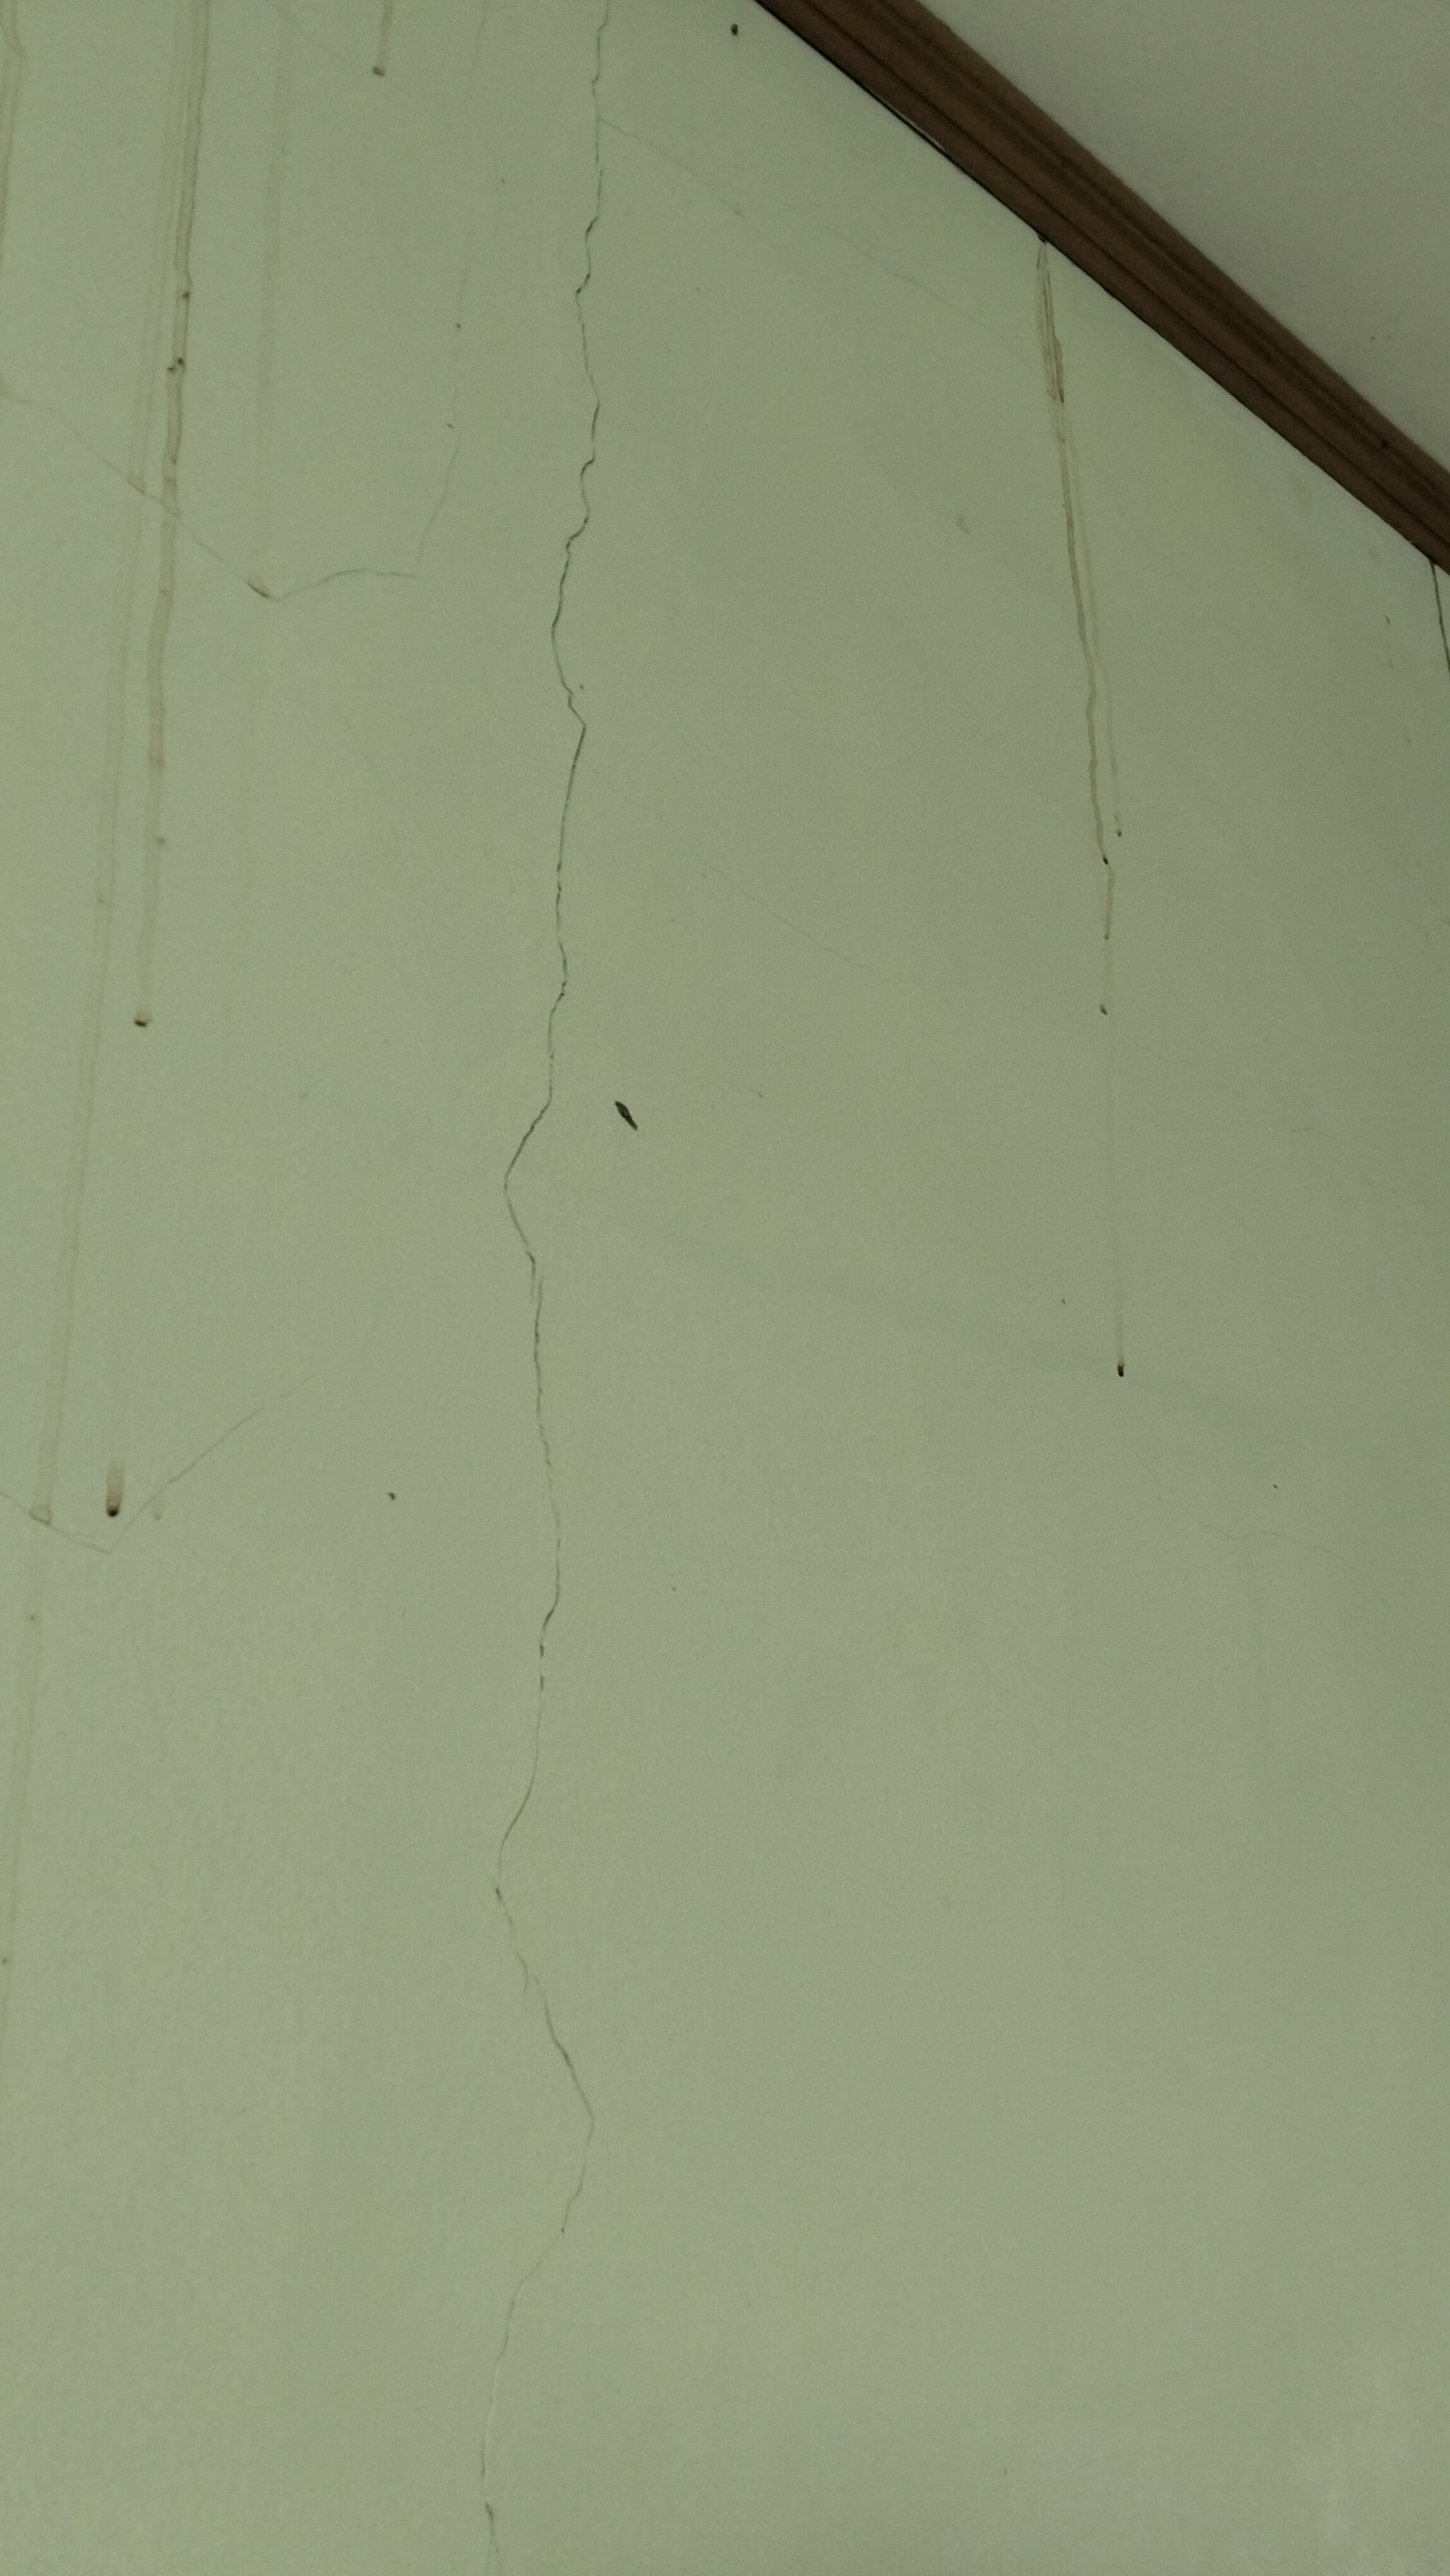Crack: (529, 0, 632, 1086), (480, 1072, 582, 1953), (473, 1932, 600, 2576)
